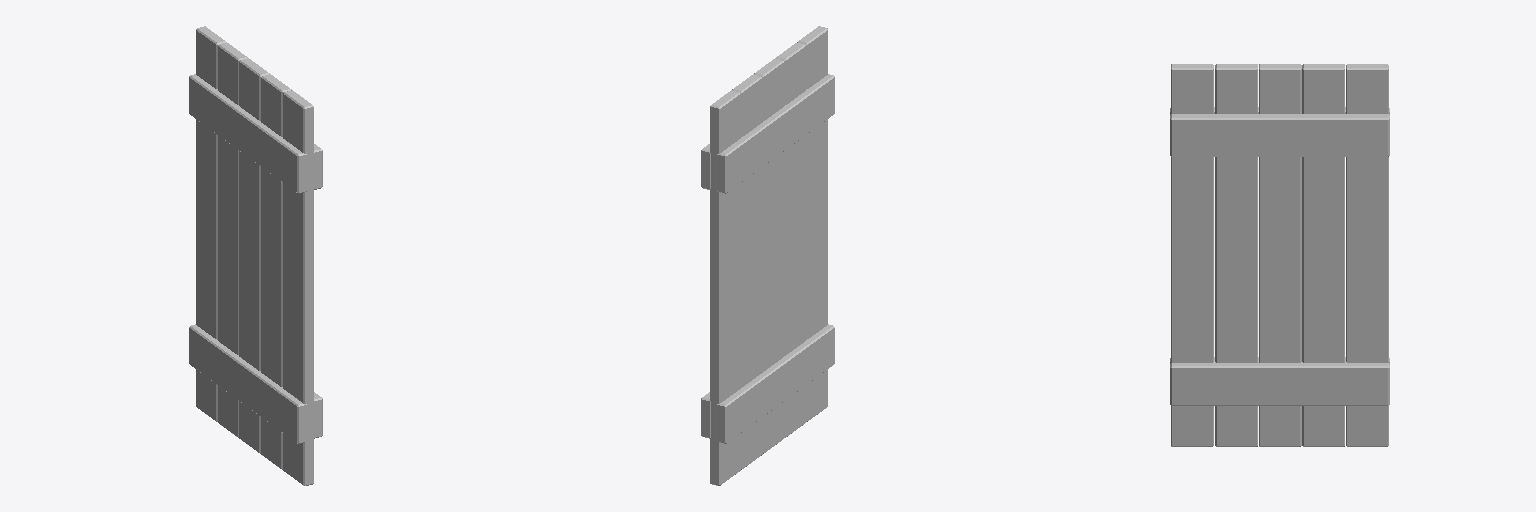
File: door.obj
The picture shows the model from 3 angles: view 1: azimuth 30°, elevation 25°; view 2: azimuth 150°, elevation 25°; view 3: azimuth 270°, elevation 25°; orthographic projection.
Visible parts, largest first — view 1: Cube.006_Cube.009; view 2: Cube.006_Cube.009; view 3: Cube.006_Cube.009.
Part boxes in pixels (x1,y1,x2,y2): Cube.006_Cube.009: (189, 26, 322, 485); Cube.006_Cube.009: (701, 26, 834, 485); Cube.006_Cube.009: (1170, 64, 1389, 446).
Size of the model in its own units: 0.2121 by 2.98 by 1.56.